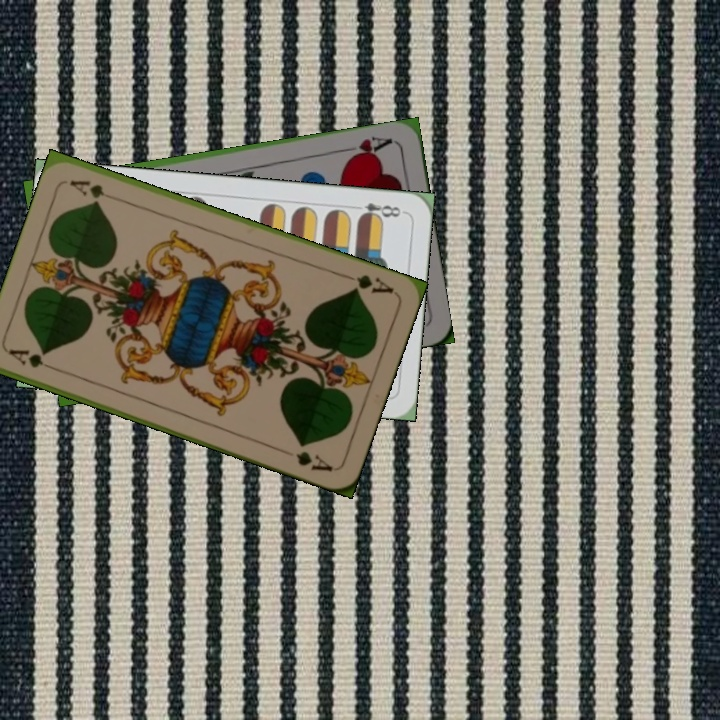E8: (348, 199, 407, 223)
GA: (4, 345, 62, 375), (339, 269, 397, 296)
HA: (337, 132, 395, 163)
